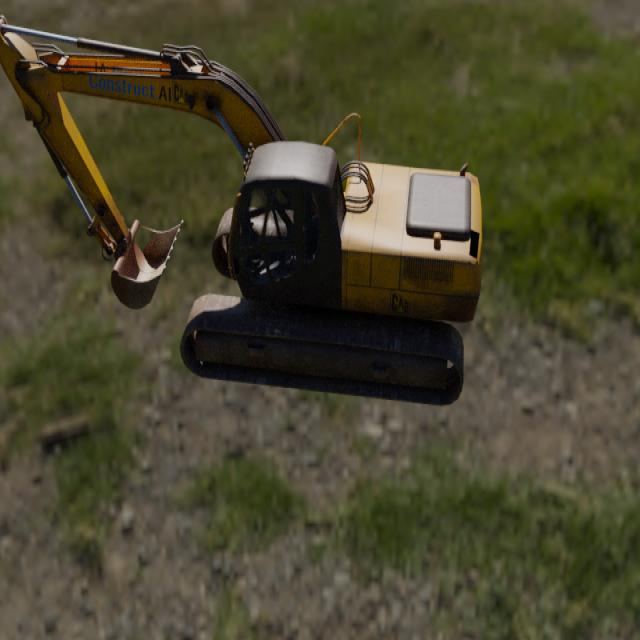excavator: (0, 14, 484, 407)
